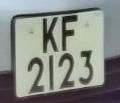1: (45, 52, 58, 94)
2: (25, 55, 48, 96), (56, 50, 78, 92)
3: (76, 48, 97, 87)
F: (59, 12, 82, 55)
K: (38, 14, 63, 57)
